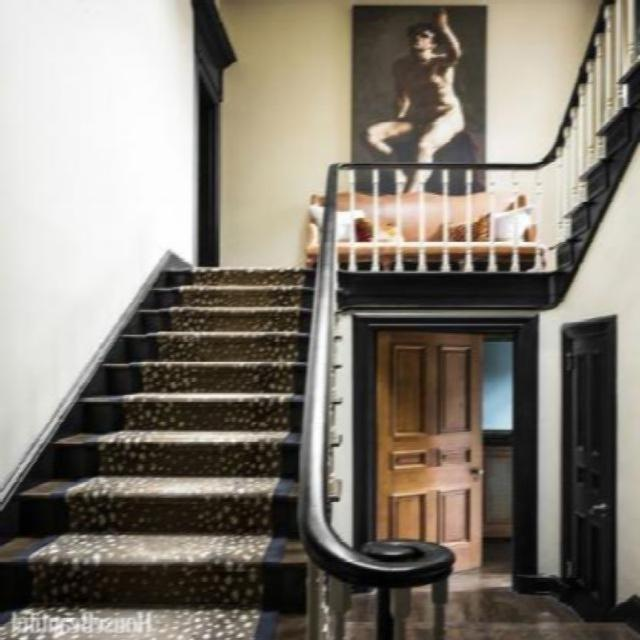stair: (4, 188, 440, 640)
